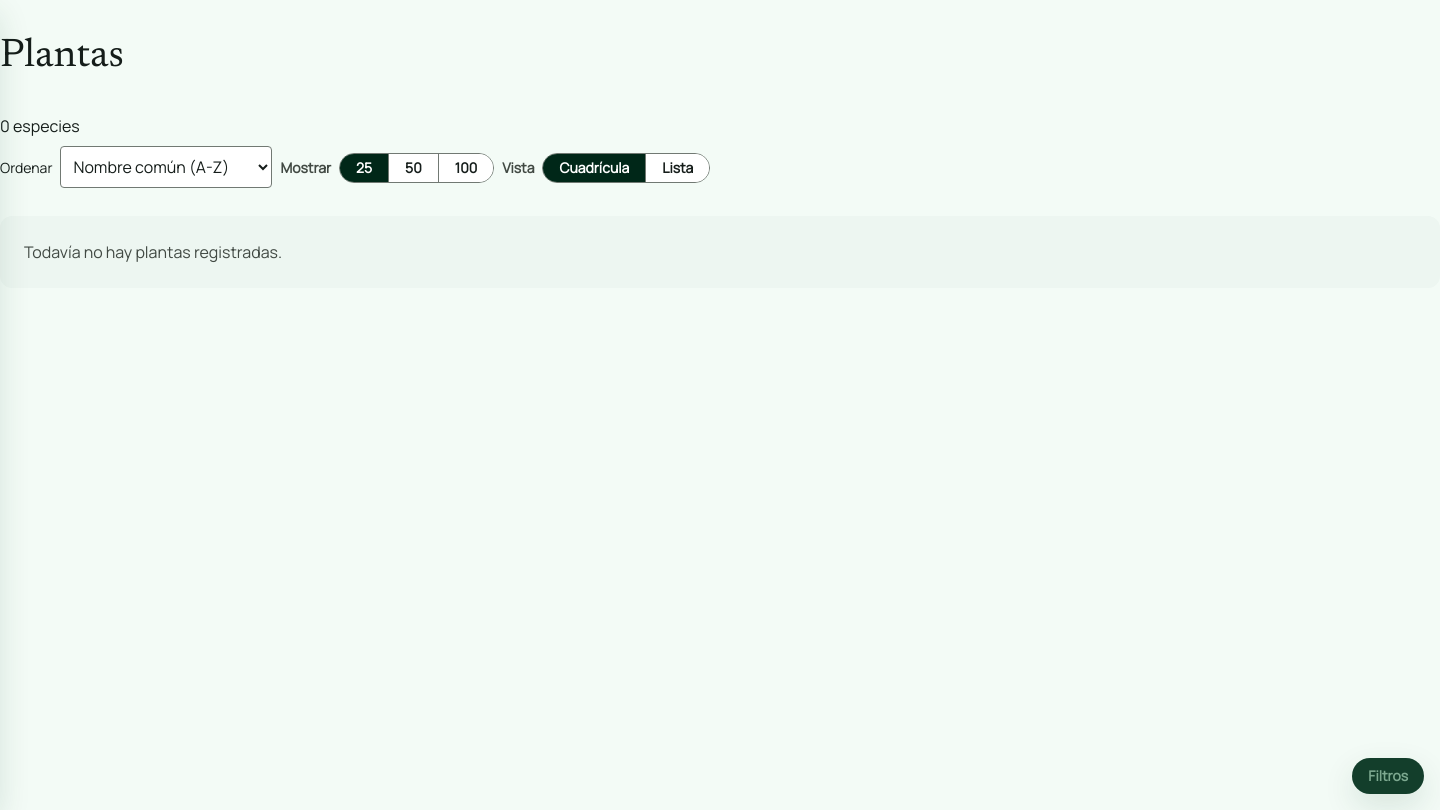
PlantsPage › should open drawer when clicking filters button
This screenshot has width=1440, height=810.
Click the button "Filtros": (1388, 776) [1352,758,1424,794]
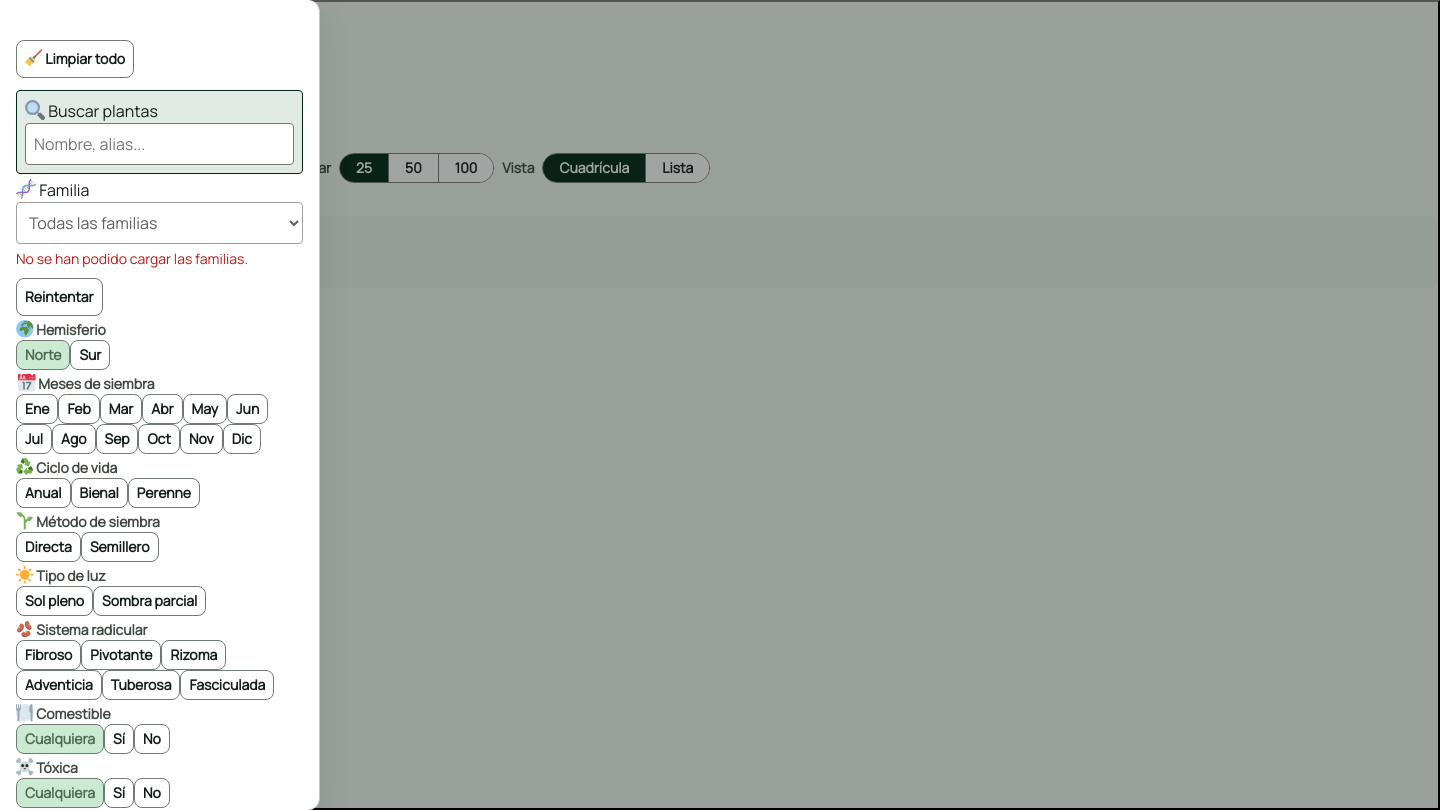
expect the button with class "drawer-overlay" is shown: met
